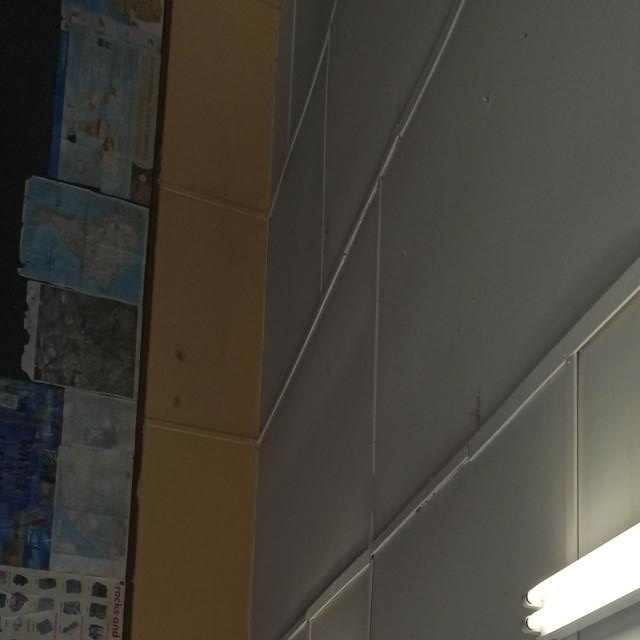fluorescent tube: (509, 209, 640, 640)
